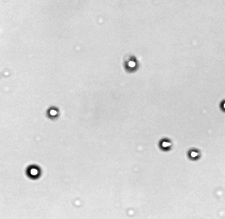Living Cell: (123, 57, 139, 72), (26, 165, 41, 179), (159, 137, 172, 151), (187, 148, 200, 160), (47, 107, 59, 119)
